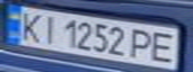1: (57, 16, 78, 48)
2: (106, 24, 130, 57), (72, 19, 93, 52)
5: (90, 20, 112, 55)
E: (145, 29, 181, 64)
I: (36, 12, 60, 45)
K: (15, 9, 45, 43)
P: (127, 26, 160, 61)
